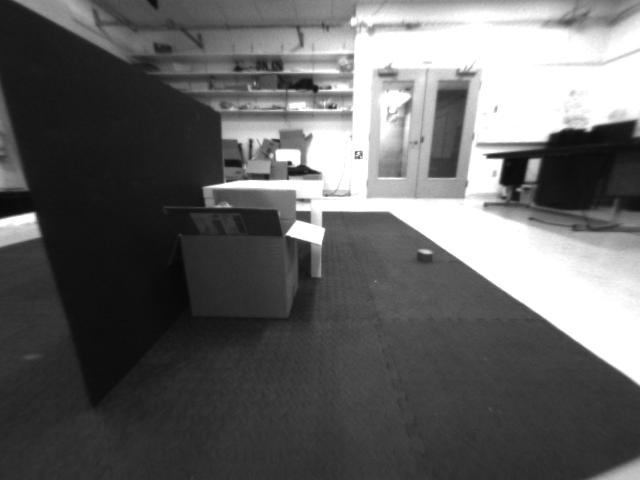dogtoy: (403, 238, 446, 270)
